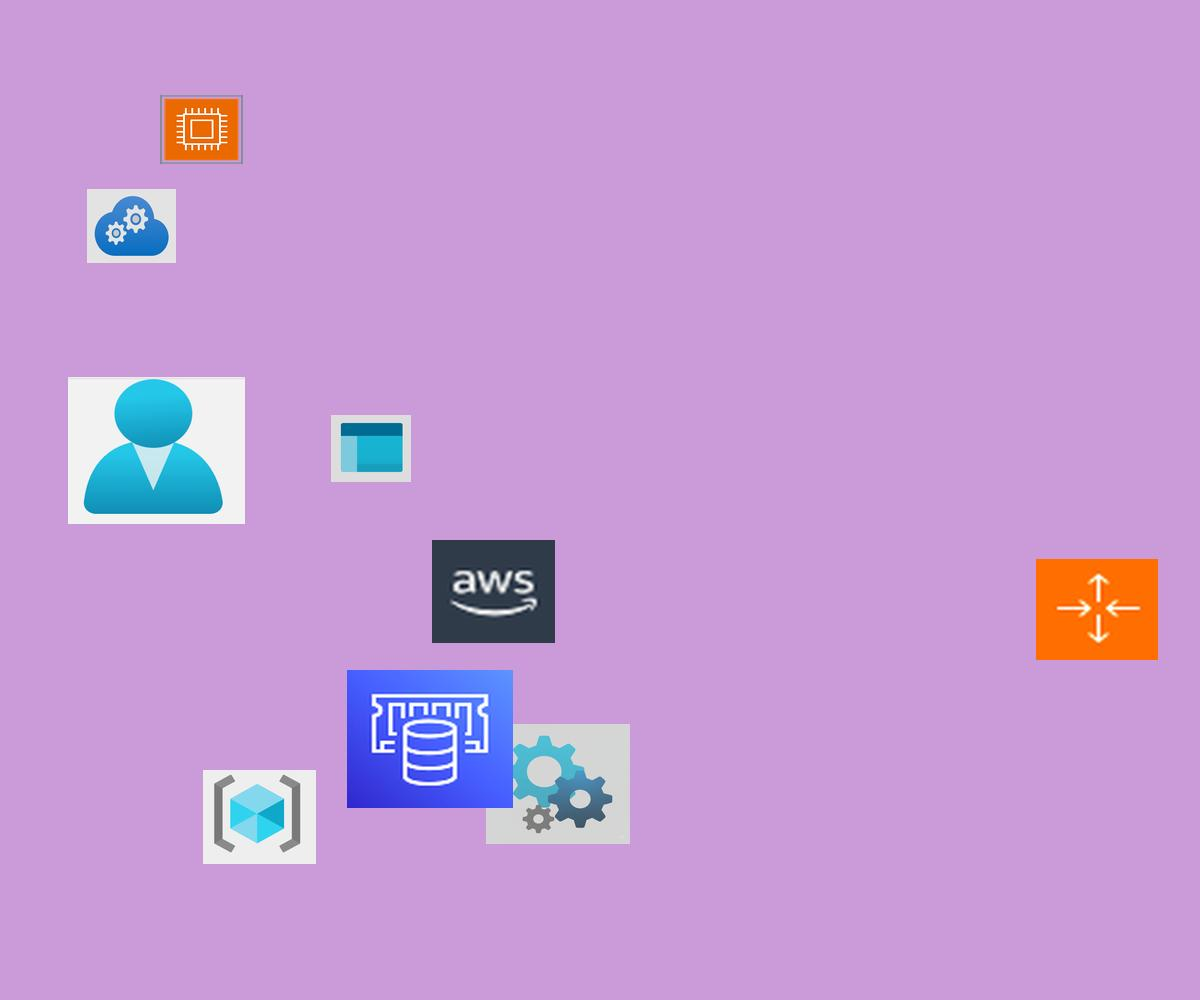AWS-Category_Compute: (160, 95, 243, 164)
AWS-Cloud-logo: (432, 540, 555, 643)
AWS-ElastiCache: (347, 670, 513, 808)
AWS-Scaling-group: (1036, 559, 1158, 660)
Azure_api: (486, 724, 630, 844)
Azure_cloud_services: (87, 189, 176, 263)
Azure_management-portal: (331, 415, 411, 482)
Azure_resource_group: (203, 770, 316, 864)
Azure_users: (68, 377, 245, 524)
